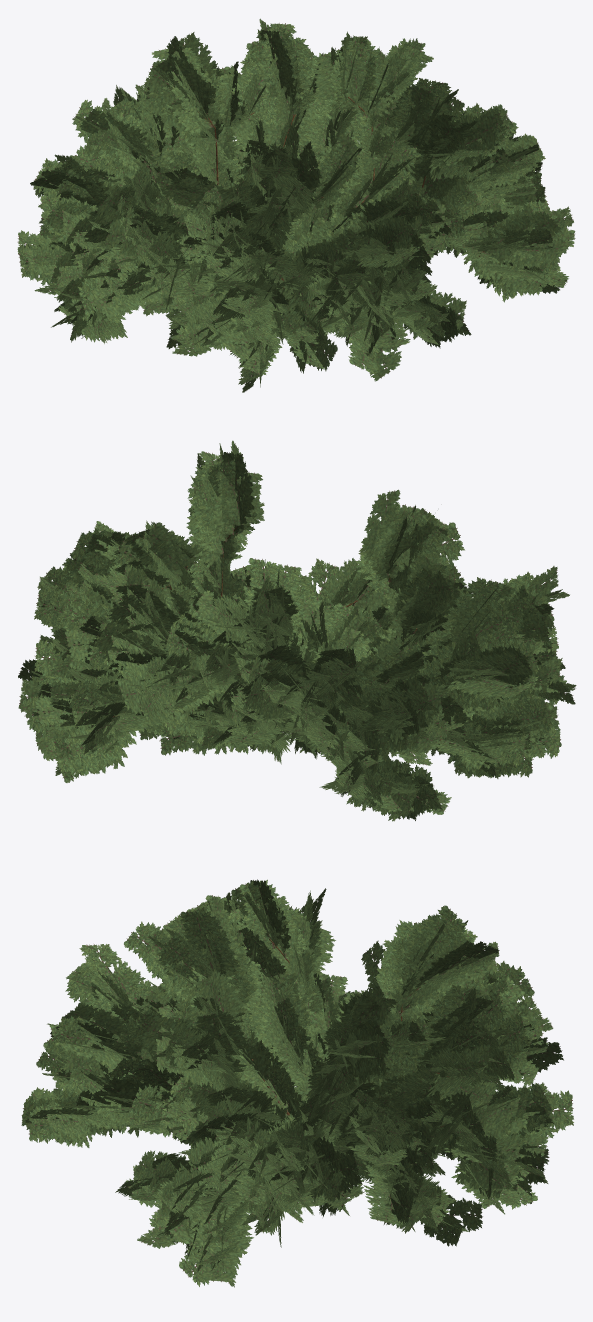
Rendered from juniper_low_v02.fbx.
The picture shows the model from 3 angles, top to bottom: view 1: azimuth 30°, elevation 25°; view 2: azimuth 150°, elevation 25°; view 3: azimuth 270°, elevation 25°; orthographic projection. The views are drawn at different scales.
Visible parts, largest first — view 1: juniper_low_v02; view 2: juniper_low_v02; view 3: juniper_low_v02.
Part boxes in pixels (x1,y1,x2,y2): juniper_low_v02: (17, 18, 575, 392); juniper_low_v02: (18, 440, 576, 821); juniper_low_v02: (21, 879, 573, 1287).
Bounding box in the file's own units: 196 × 100 × 182.
2 materials, 2 textured.
